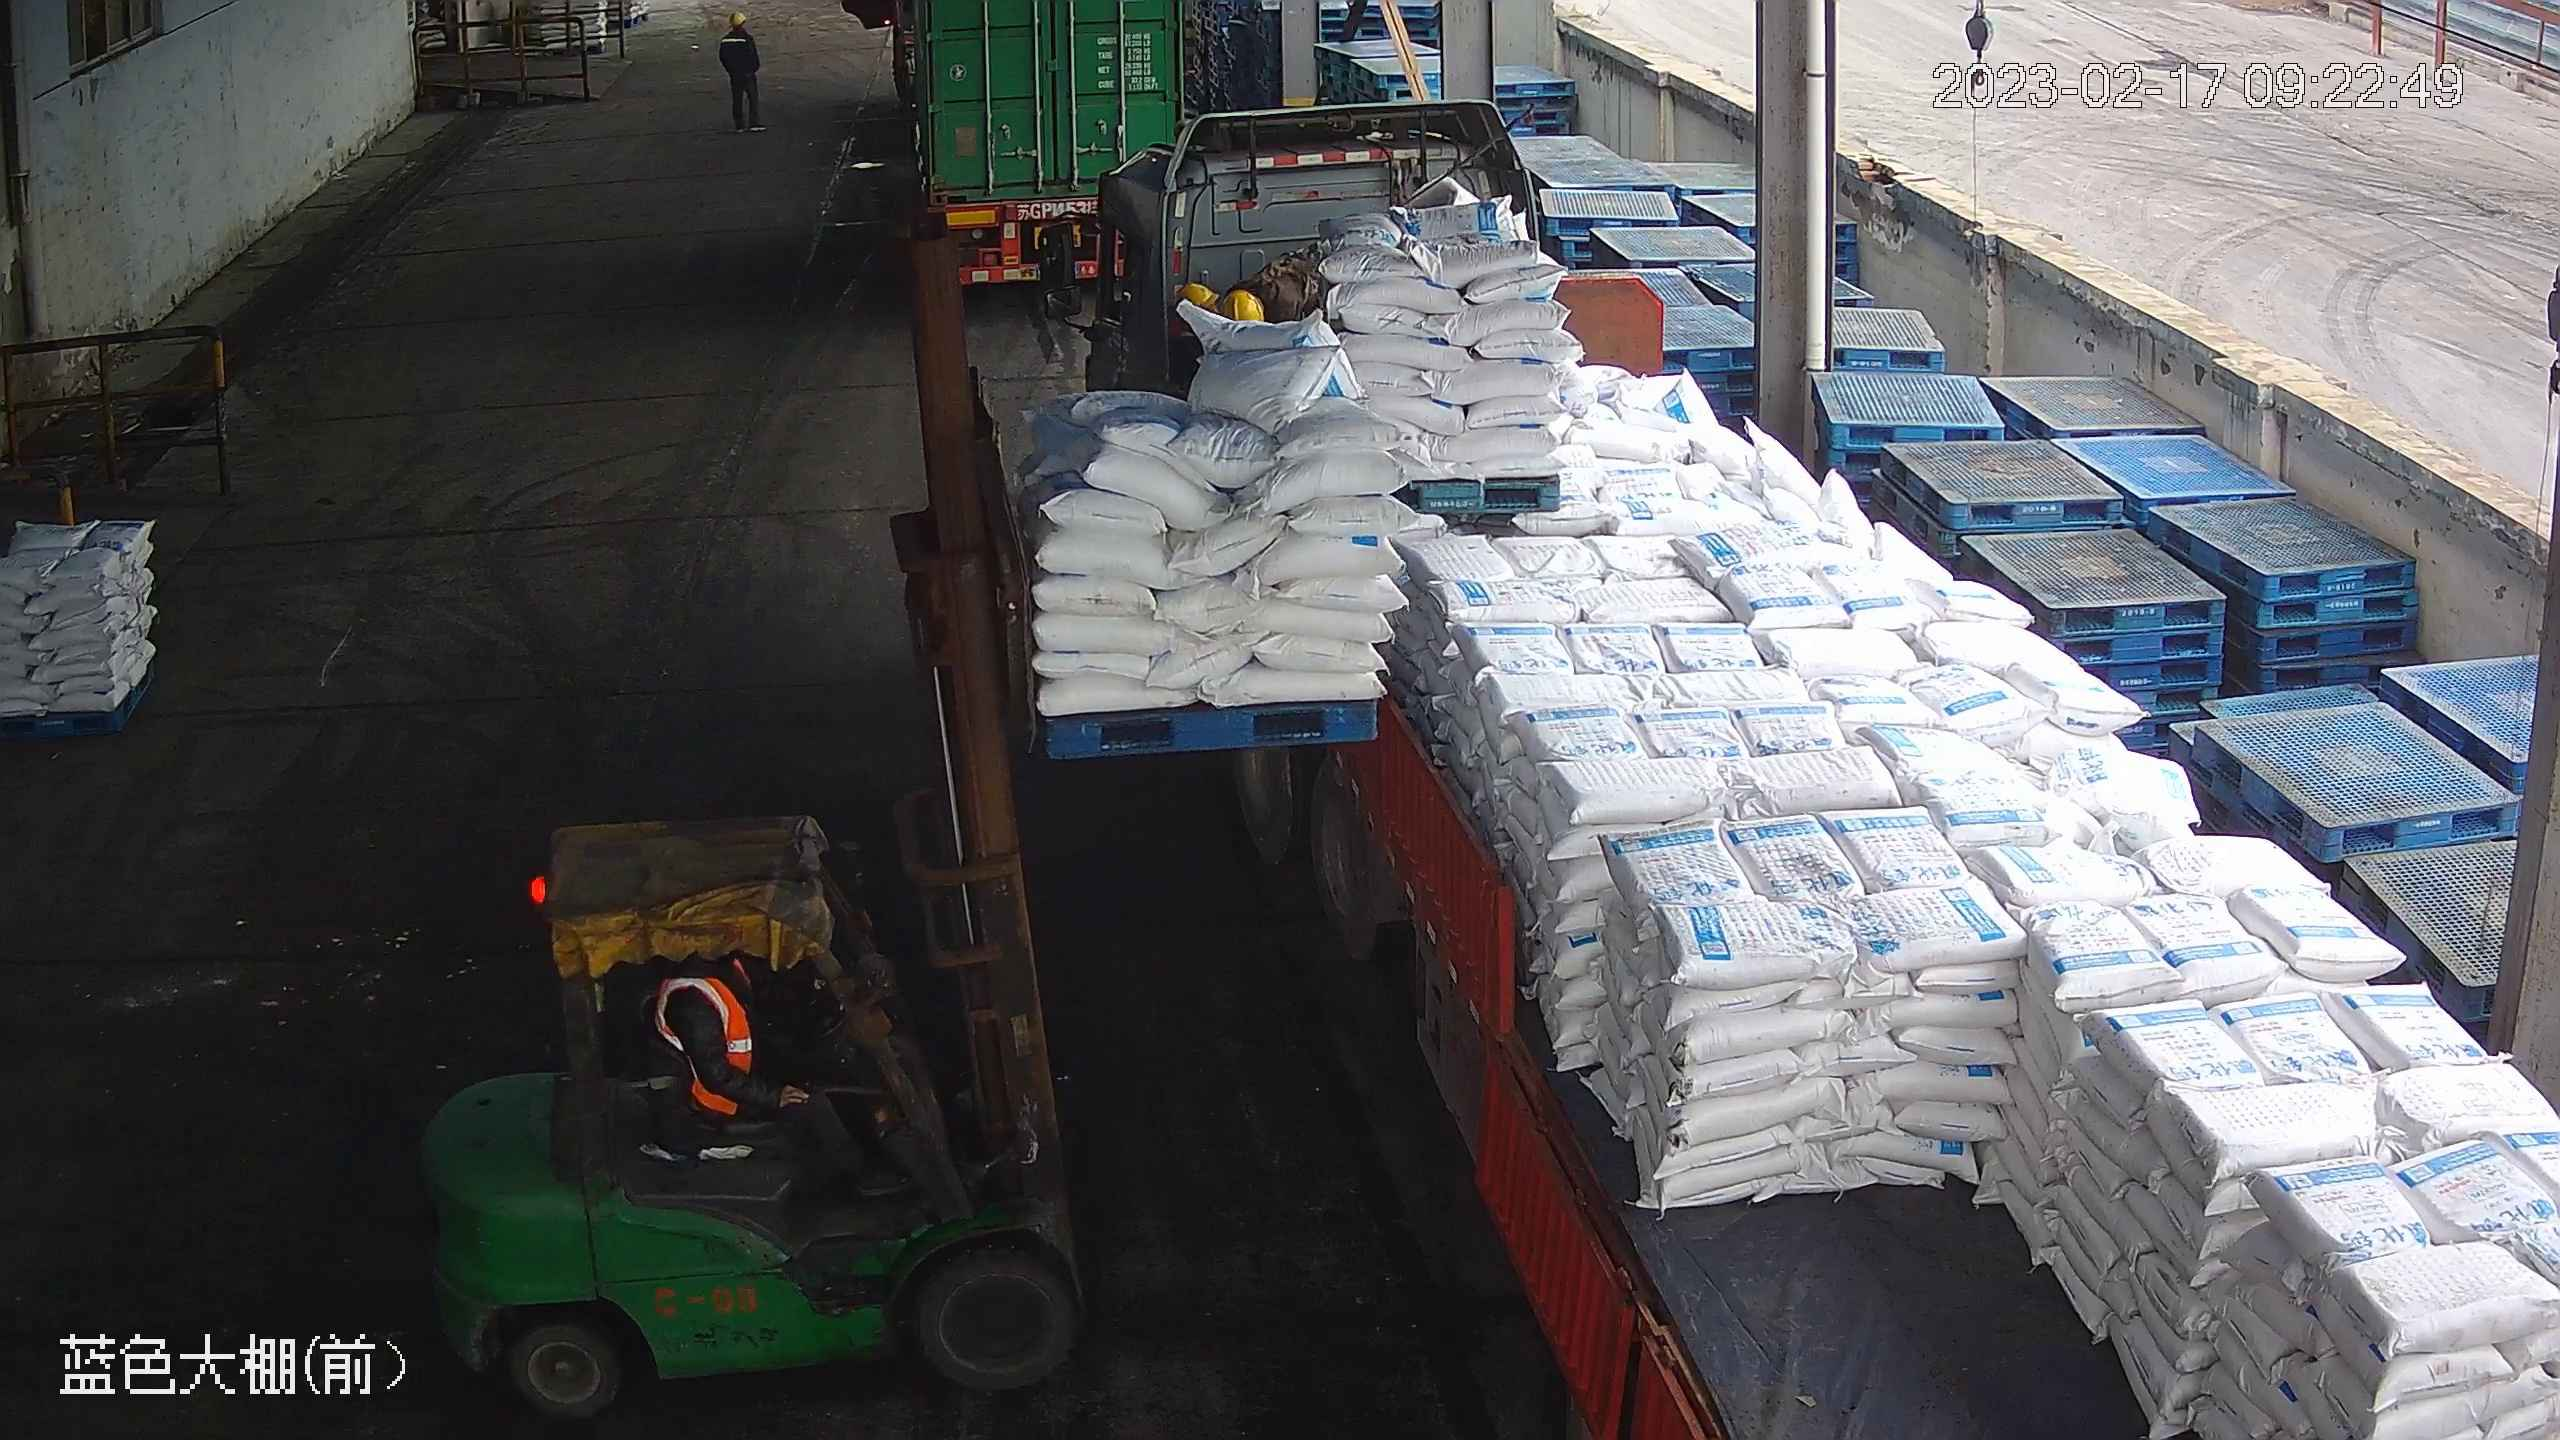belt: (1253, 247, 1313, 285)
head: (715, 9, 755, 55)
helmet: (1176, 281, 1222, 312), (1223, 290, 1265, 323), (728, 12, 747, 25)
people: (649, 952, 929, 1222), (718, 10, 765, 138)
truck: (1034, 93, 2560, 1440), (891, 1, 1193, 281)
